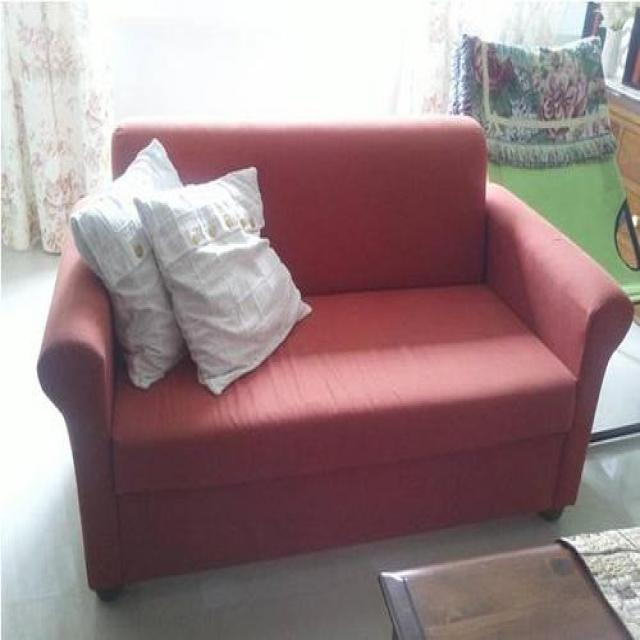sofa: (36, 112, 634, 600)
